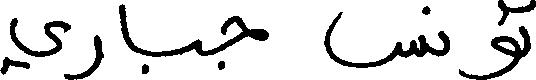X: (323, 2, 425, 72), (458, 0, 519, 79), (0, 13, 69, 79), (221, 11, 267, 74), (71, 30, 102, 79), (521, 0, 535, 62), (118, 0, 131, 54), (439, 26, 449, 60), (191, 34, 202, 60)
